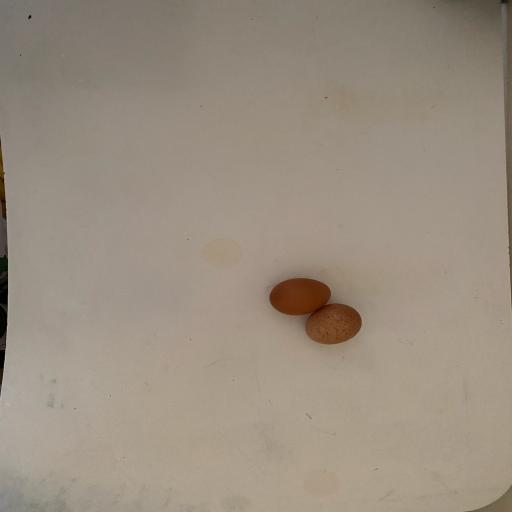egg: (255, 266, 341, 332), (300, 294, 368, 354)
